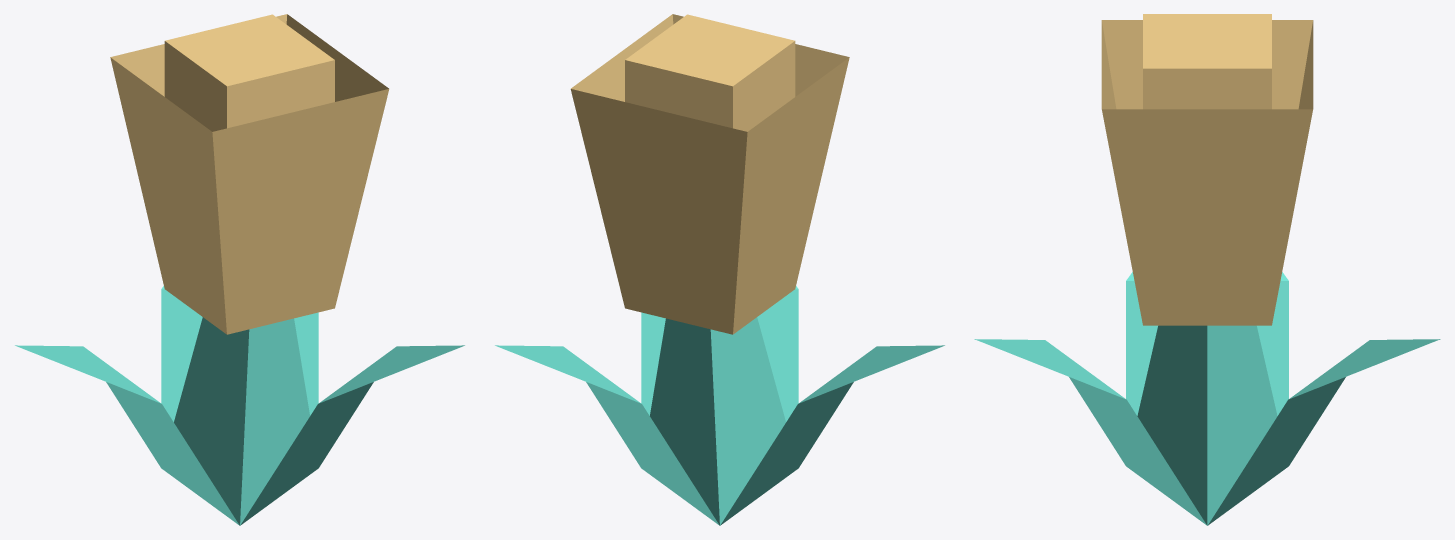
The model's file is flower_yellowA.glb.
3 renders of one model, left to right at view 1: azimuth 30°, elevation 25°; view 2: azimuth 150°, elevation 25°; view 3: azimuth 270°, elevation 25°, orthographic. The views are drawn at different scales.
Visible parts, largest first — view 1: flower_yellowA; view 2: flower_yellowA; view 3: flower_yellowA.
Part boxes in pixels (bbox=[...]): flower_yellowA: bbox=[15, 14, 464, 525]; flower_yellowA: bbox=[495, 14, 944, 525]; flower_yellowA: bbox=[974, 14, 1440, 525].
Bounding box in the file's own units: 0.1591 × 0.1925 × 0.1811.
